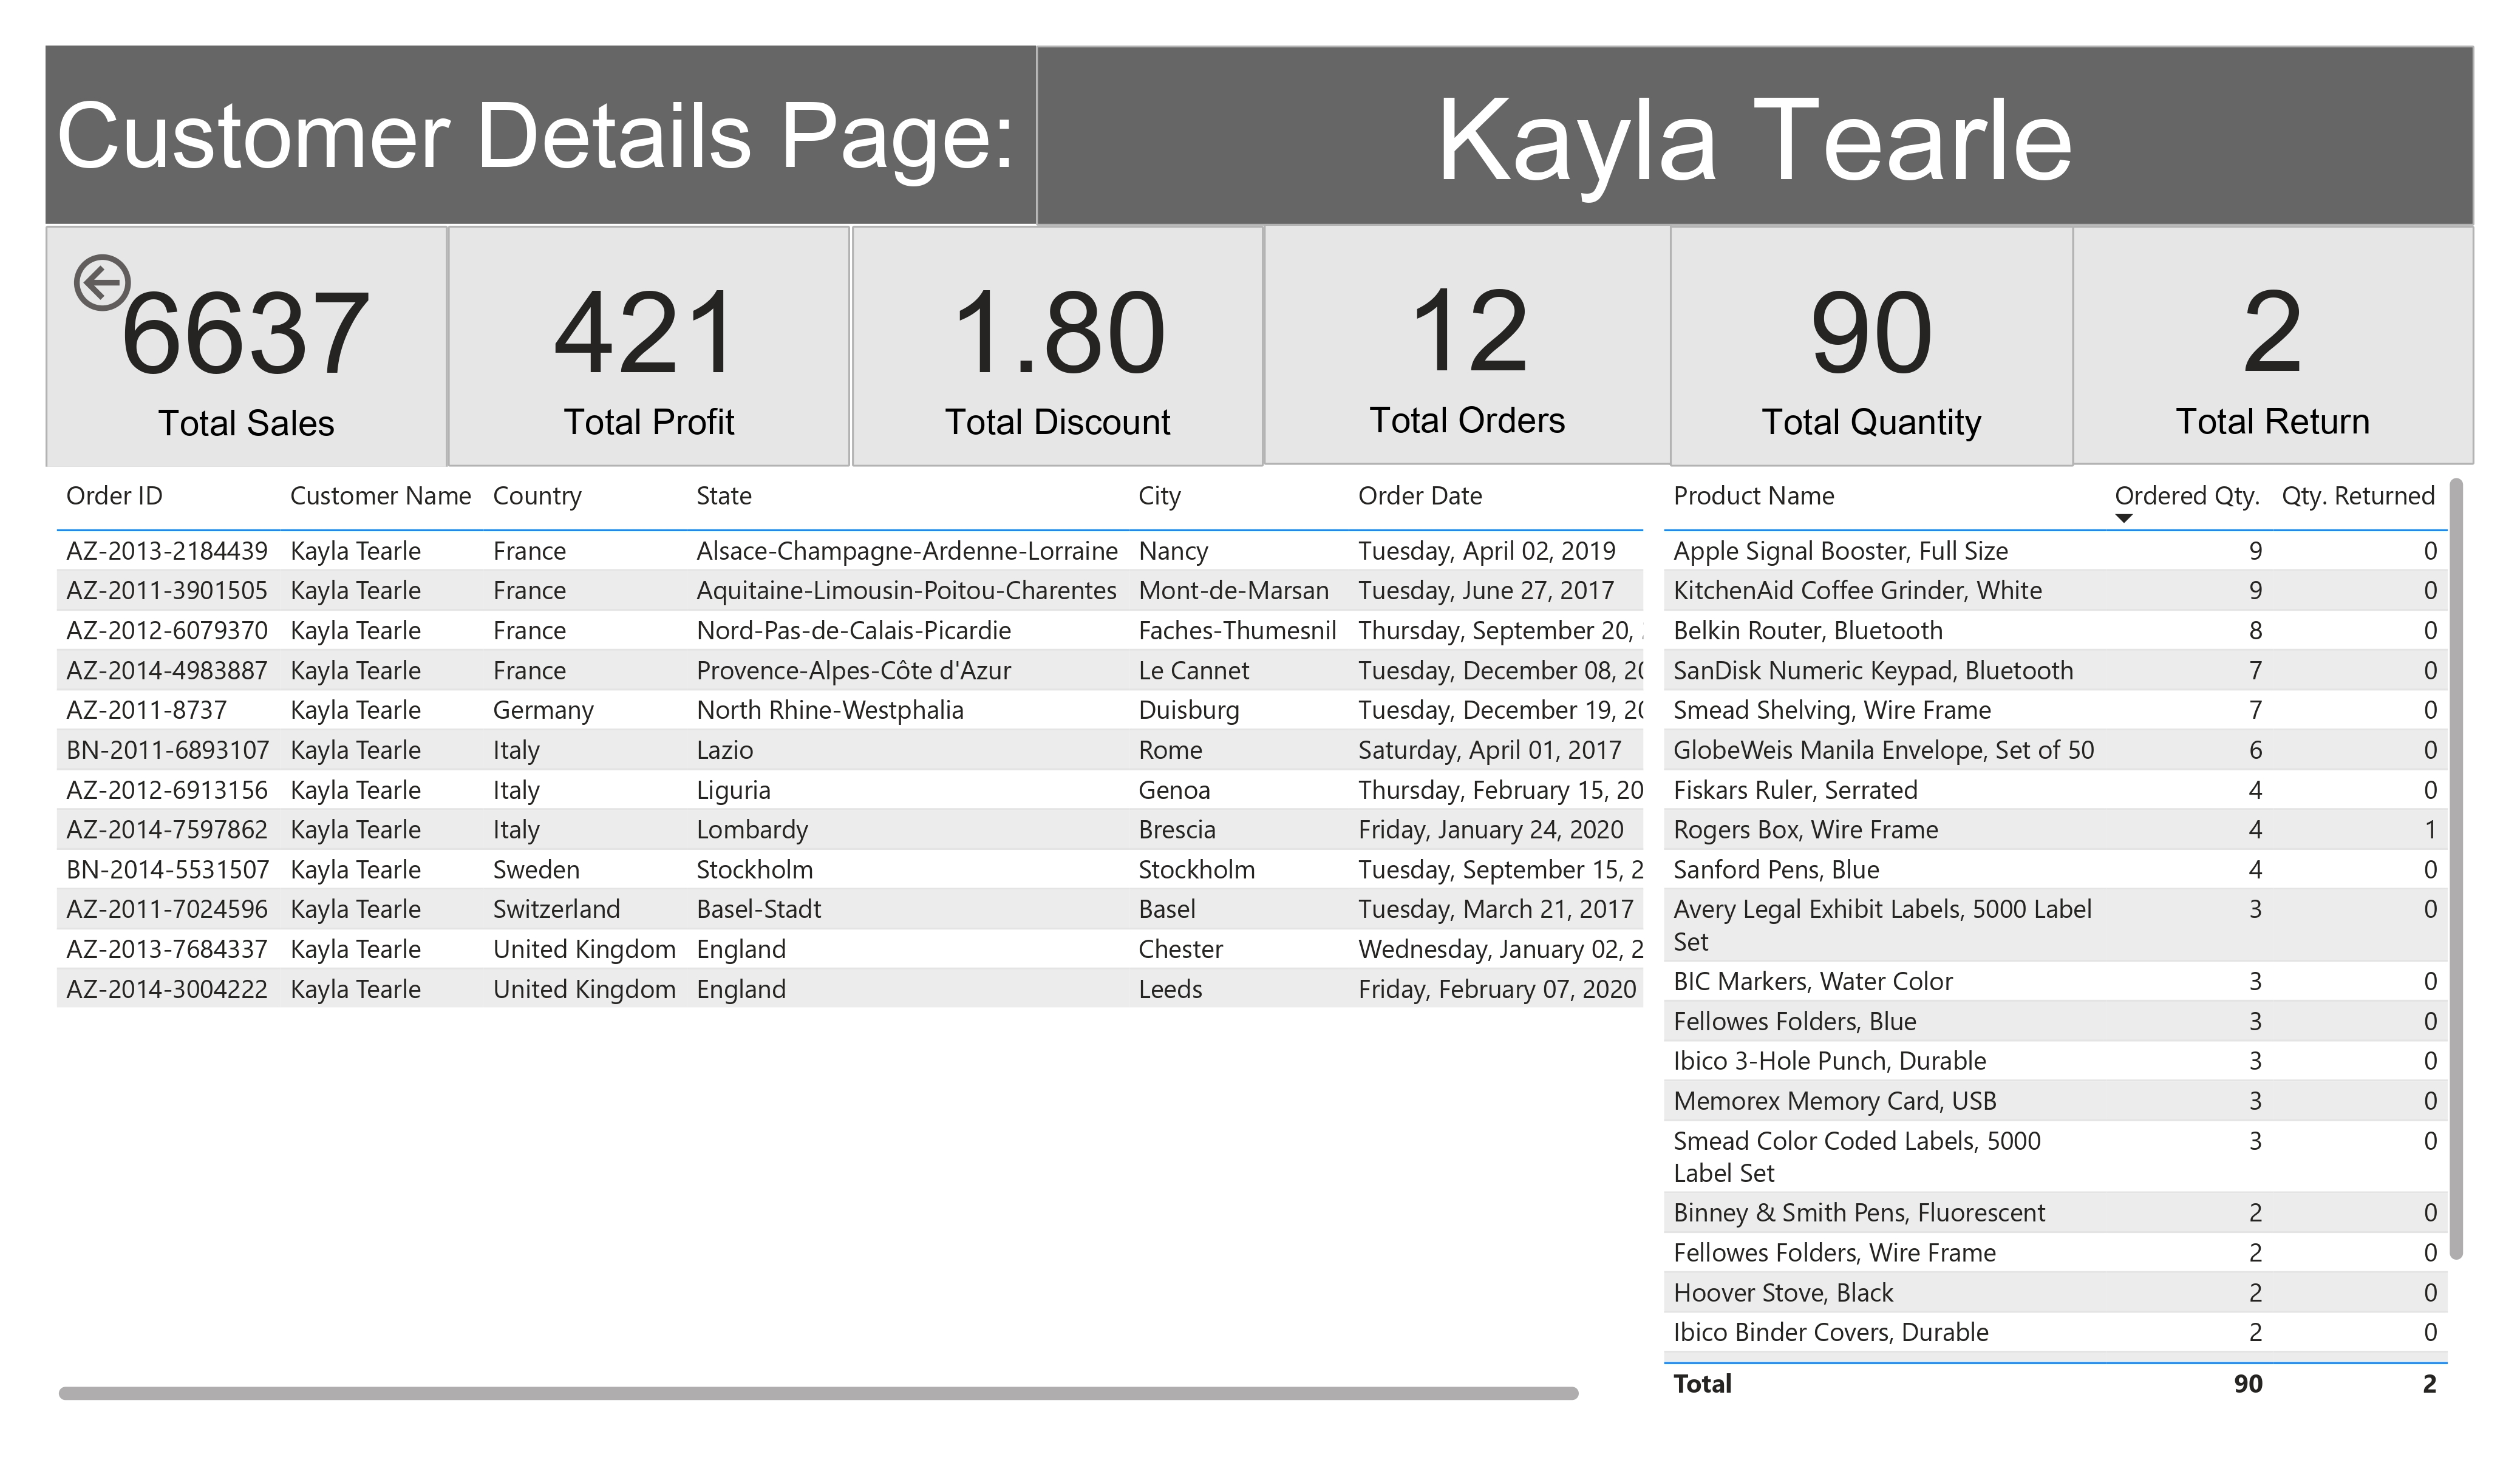

What the dashboard file says about the page in this screenshot:
{"tool":"powerbi","page":{"name":"Customer details","canvas":[1280,720],"ordinal":1},"visuals":[{"type":"card","fields":{"Values":["Sum(Order Breakdown.Sales)"]},"box":[0,94.6,211.5,128],"z":0},{"type":"card","fields":{"Values":["Sum(Order Breakdown.Profit)"]},"box":[211.5,94.6,212.6,126.9],"z":1000},{"type":"card","fields":{"Values":["Sum(Order Breakdown.Discount)"]},"box":[425.2,94.6,217.1,126.9],"z":2000},{"type":"card","fields":{"Values":["Sum(Order Breakdown.Quantity)"]},"box":[855,95,212.5,126.2],"z":3000},{"type":"actionButton","box":[10,105,40,40],"z":4000},{"type":"card","fields":{"Values":["Sum(Order Breakdown.Return Status - Copy)"]},"box":[1067.5,95,212.5,126.2],"z":5000},{"type":"card","fields":{"Values":["Count(List of Orders.Order ID)"]},"box":[641.8,94.1,214.7,126.7],"z":6000},{"type":"card","fields":{"Values":["Sum(Order Breakdown.Quantity)"]},"box":[856,94.6,212.6,126.9],"z":7000},{"type":"tableEx","fields":{"Values":["List of Orders.Order ID","List of Orders.Customer Name","List of Orders.Country","List of Orders.State","List of Orders.City","List of Orders.Order Date.Variation.Date Hierarchy.Day","List of Orders.Order Date.Variation.Date Hierarchy.Month","List of Orders.Order Date.Variation.Date Hierarchy.Year"]},"box":[0,221.7,846.9,498.3],"z":8000},{"type":"tableEx","fields":{"Values":["Order Breakdown.Product Name","Sum(Order Breakdown.Quantity)","Sum(Order Breakdown.Return Count)"]},"box":[846.9,222,433.1,498.3],"z":9000},{"type":"textbox","box":[0,0,522.4,94.1],"z":10000},{"type":"card","fields":{"Values":["Min(List of Orders.Customer Name)"]},"box":[522.4,0,757.6,95.3],"z":11000}]}

Visuals, with their boxes on the page's 1280x720 design canvas (x1, y1, x2, y2). These are canvas units, not pixel positions in the 2520x1457 screenshot, which may show the page scaled, cropped or inside an application window:
card - Sum(Order Breakdown.Sales): left=0, top=95, right=212, bottom=223
card - Sum(Order Breakdown.Profit): left=212, top=95, right=424, bottom=222
card - Sum(Order Breakdown.Discount): left=425, top=95, right=642, bottom=222
card - Sum(Order Breakdown.Quantity): left=855, top=95, right=1068, bottom=221
actionButton: left=10, top=105, right=50, bottom=145
card - Sum(Order Breakdown.Return Status - Copy): left=1068, top=95, right=1280, bottom=221
card - Count(List of Orders.Order ID): left=642, top=94, right=856, bottom=221
card - Sum(Order Breakdown.Quantity): left=856, top=95, right=1069, bottom=222
tableEx - List of Orders.Order ID x List of Orders.Customer Name: left=0, top=222, right=847, bottom=720
tableEx - Order Breakdown.Product Name x Sum(Order Breakdown.Quantity): left=847, top=222, right=1280, bottom=720
textbox: left=0, top=0, right=522, bottom=94
card - Min(List of Orders.Customer Name): left=522, top=0, right=1280, bottom=95
